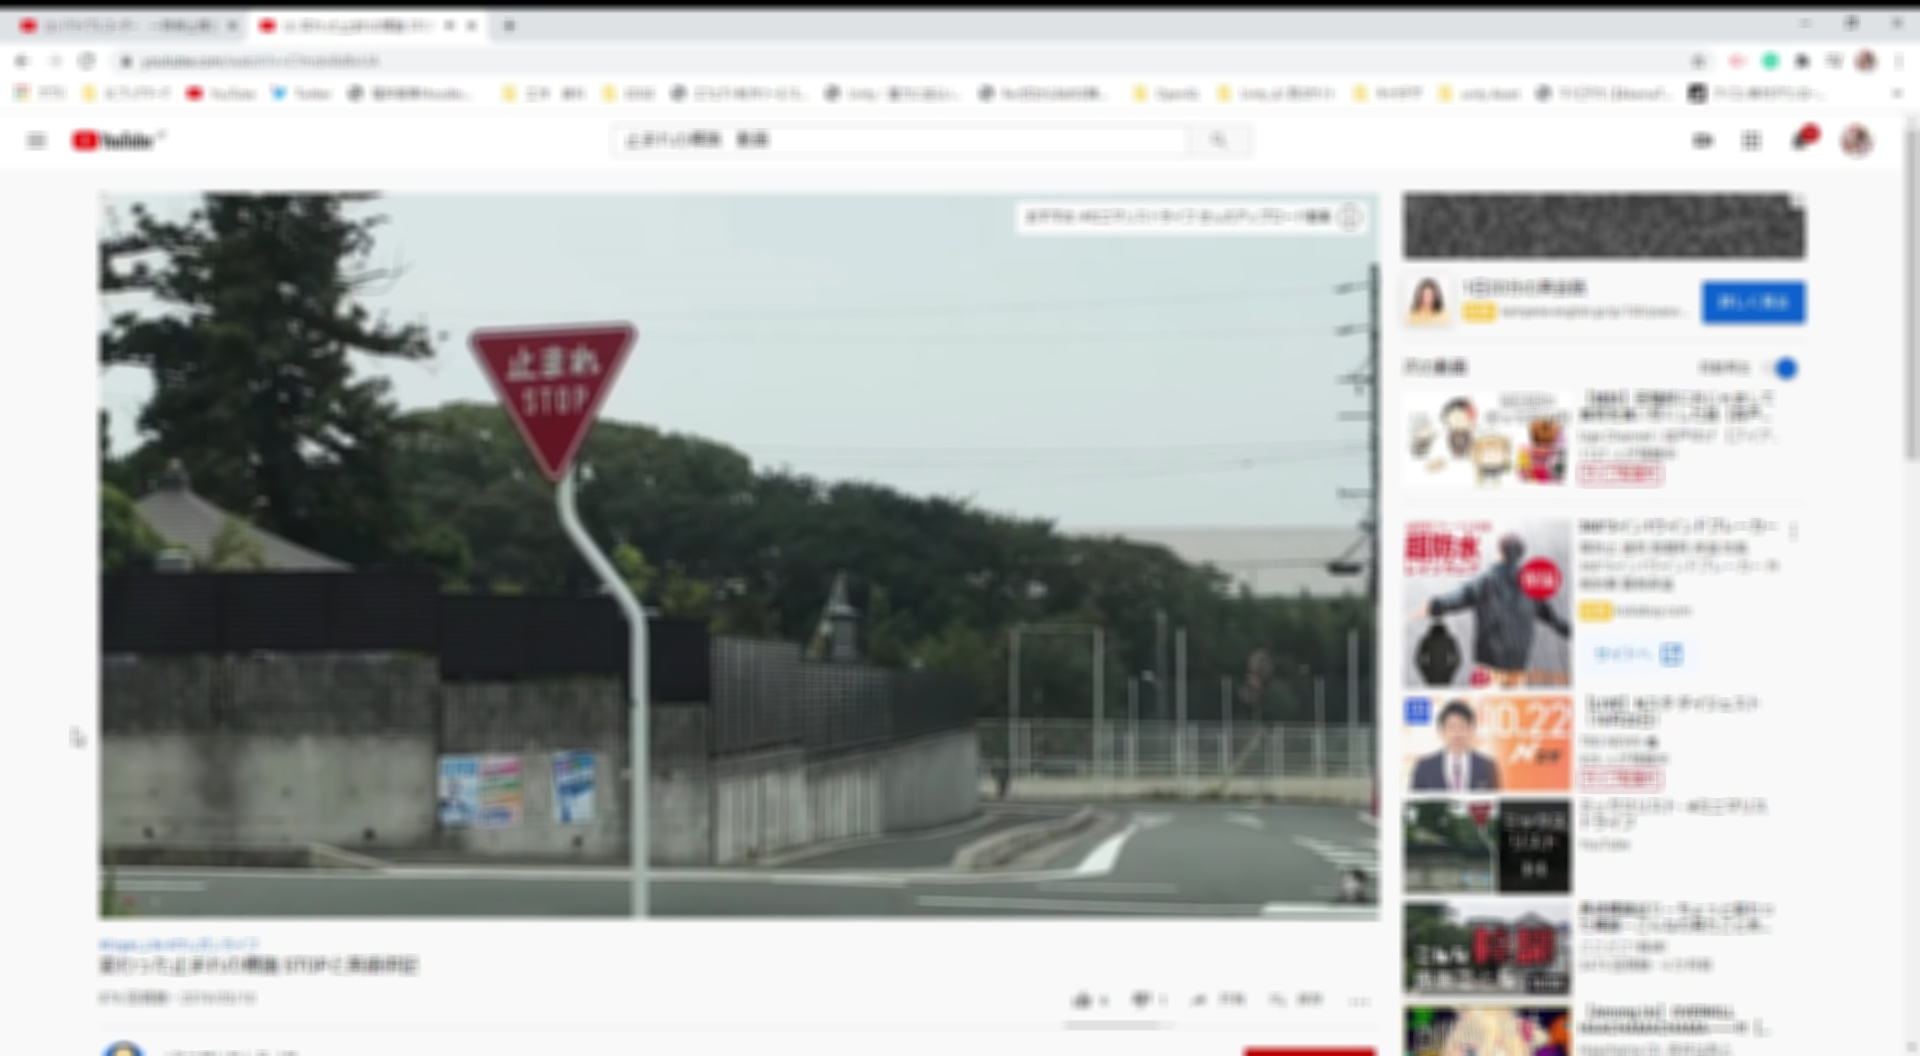Regulatory_sign_triangle: (458, 319, 667, 486)
